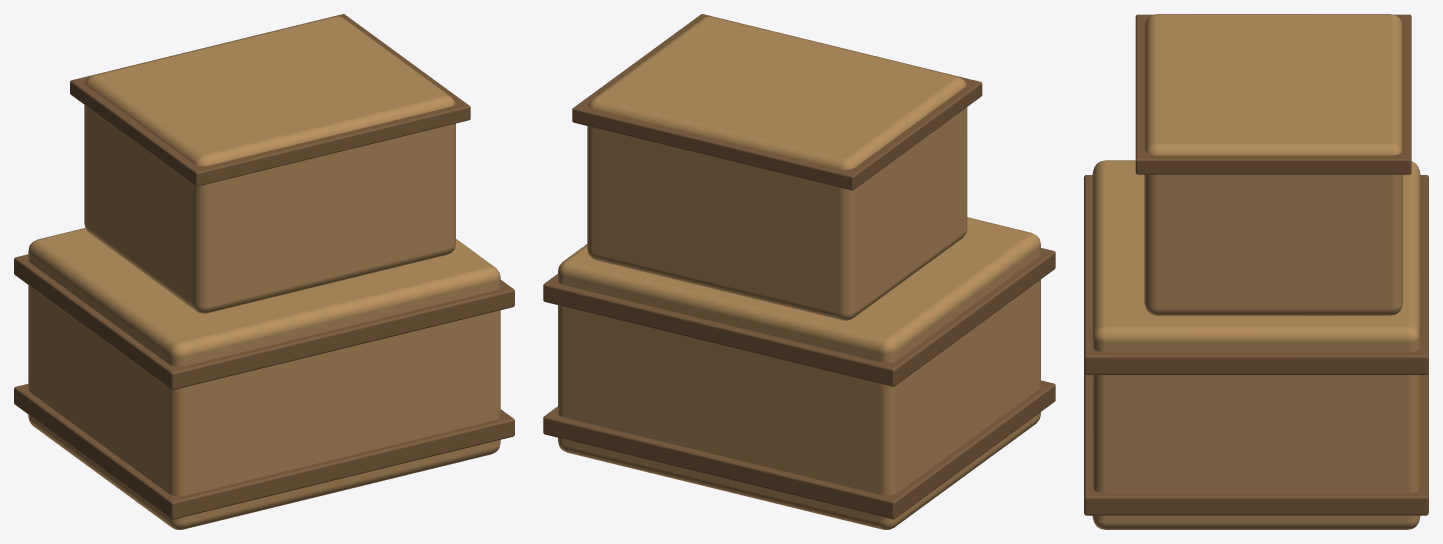
3 views of the same model, side by side, from view 1: azimuth 30°, elevation 25°; view 2: azimuth 150°, elevation 25°; view 3: azimuth 270°, elevation 25° (orthographic). The views are drawn at different scales.
Size of the model in its own units: 0.5 by 0.48 by 0.4.
